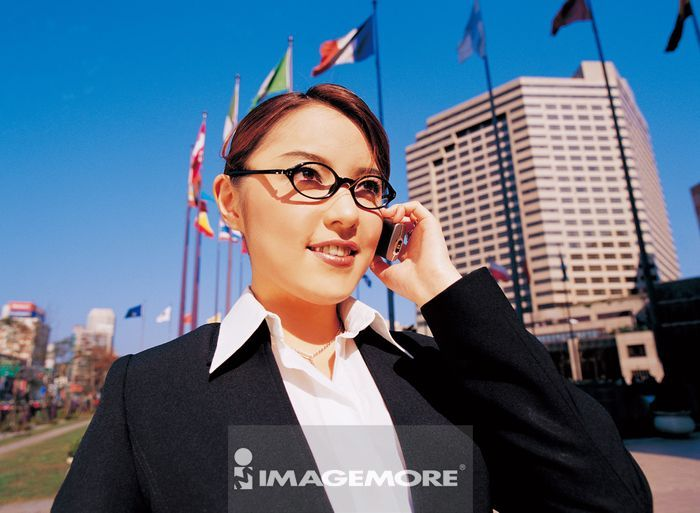talk: (269, 145, 451, 321)
